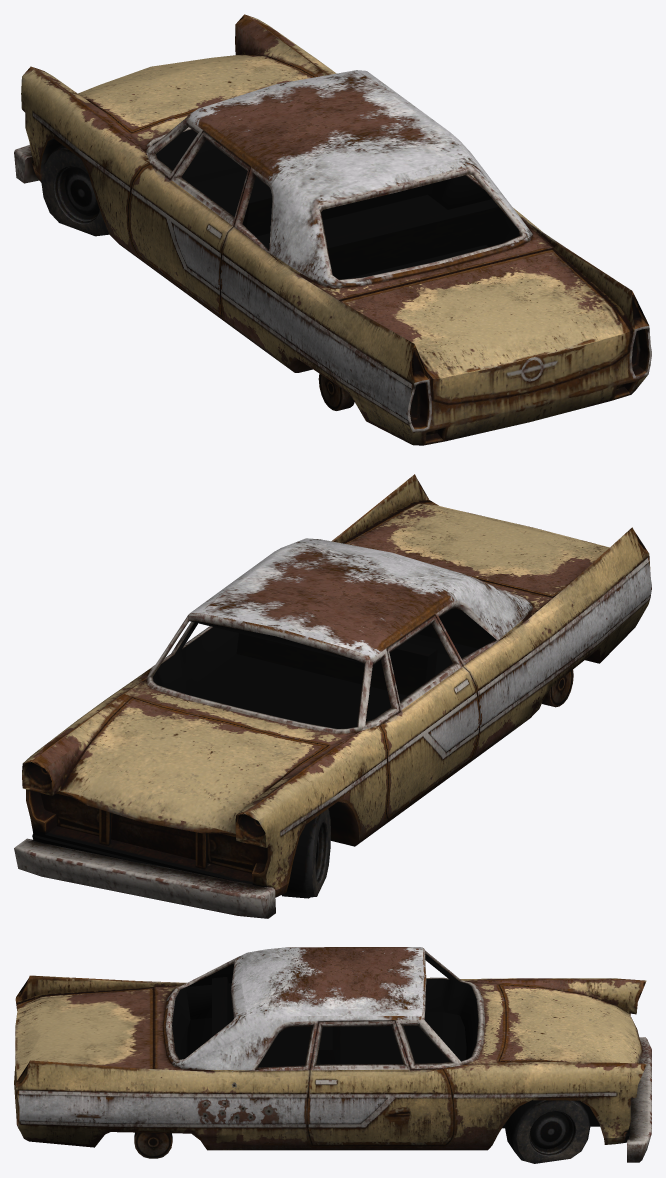
The model's file is car2.fbx.
3 views of the same model, one above another, from view 1: azimuth 30°, elevation 25°; view 2: azimuth 150°, elevation 25°; view 3: azimuth 270°, elevation 25° (orthographic). The views are drawn at different scales.
Parts seen in each view (by area): view 1: Cylinder001; view 2: Cylinder001; view 3: Cylinder001.
Part boxes in pixels (<box>): Cylinder001: <box>14,14,651,445</box>; Cylinder001: <box>14,474,651,918</box>; Cylinder001: <box>14,947,651,1163</box>.
Size of the model in its own units: 169 by 104 by 432.
1 material, 1 textured.
